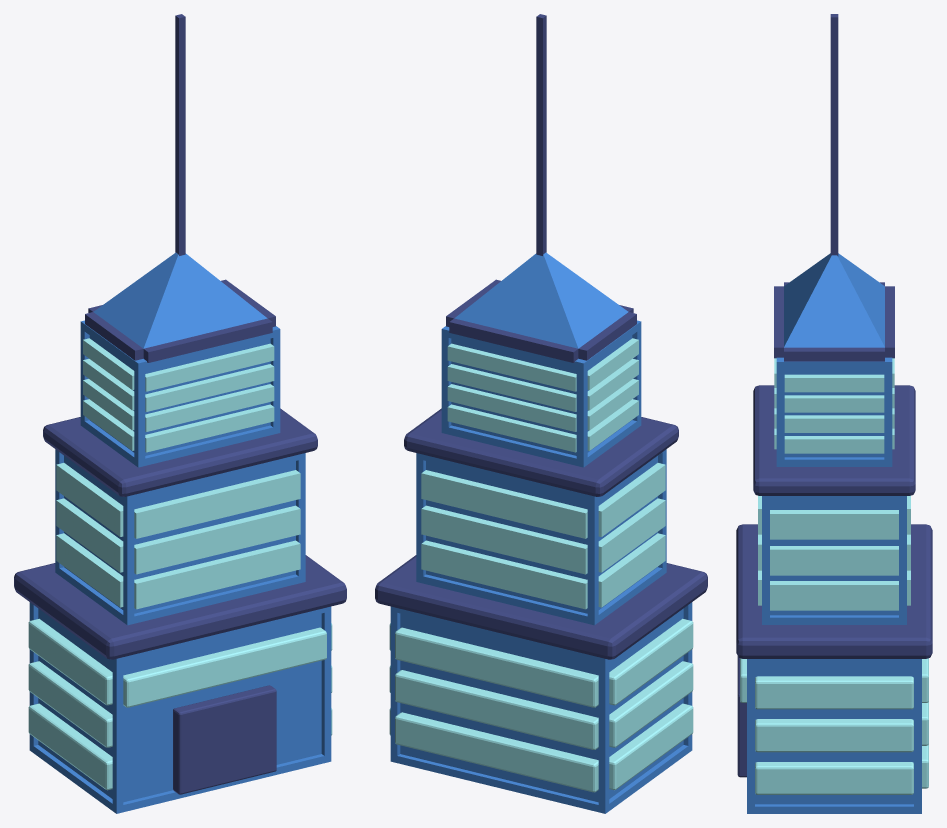
Rendered from predio_ponta.fbx.
3 views of the same model, side by side, from view 1: azimuth 30°, elevation 25°; view 2: azimuth 150°, elevation 25°; view 3: azimuth 270°, elevation 25° (orthographic).
Visible parts, largest first — view 1: Predio_pontudo; view 2: Predio_pontudo; view 3: Predio_pontudo.
Boxes of the visible parts, <box> form: Predio_pontudo: <box>14,14,346,813</box>; Predio_pontudo: <box>375,14,707,813</box>; Predio_pontudo: <box>736,14,932,813</box>.
Bounding box in the file's own units: 608 × 1787 × 426.
